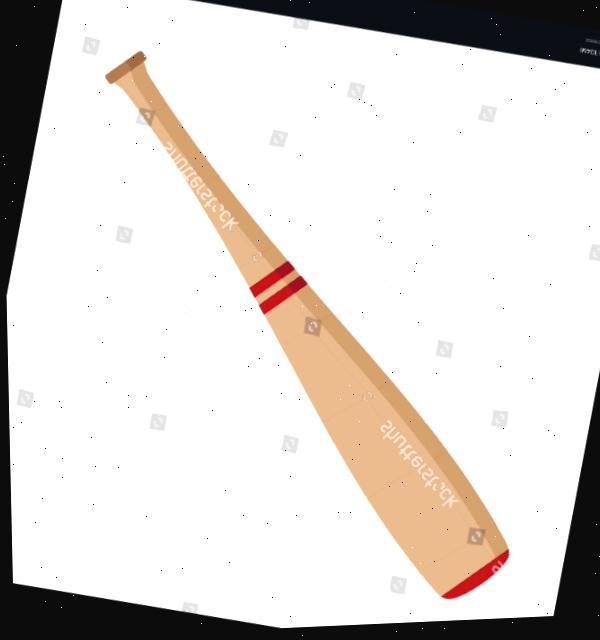baseball bat: (6, 6, 599, 634)
